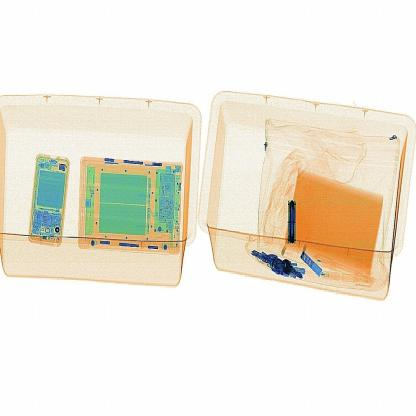scissors: (284, 192, 312, 251)
